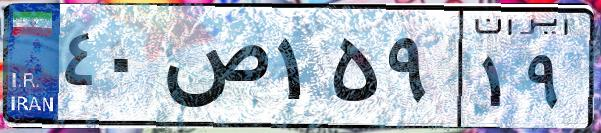0: (110, 28, 158, 98)
1: (270, 28, 330, 110), (475, 38, 525, 113)
4: (57, 26, 110, 100)
5: (330, 28, 385, 110)
9: (385, 28, 445, 110), (525, 38, 570, 115)
ص: (158, 20, 270, 120)
